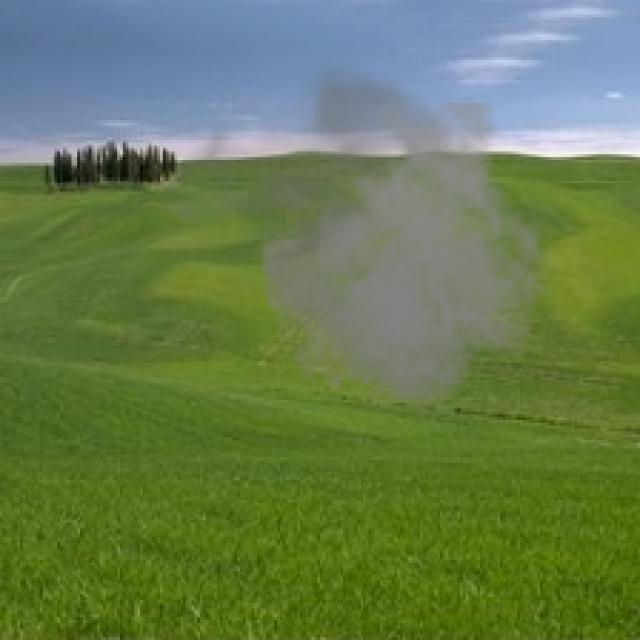Smoke: (157, 57, 554, 429)
